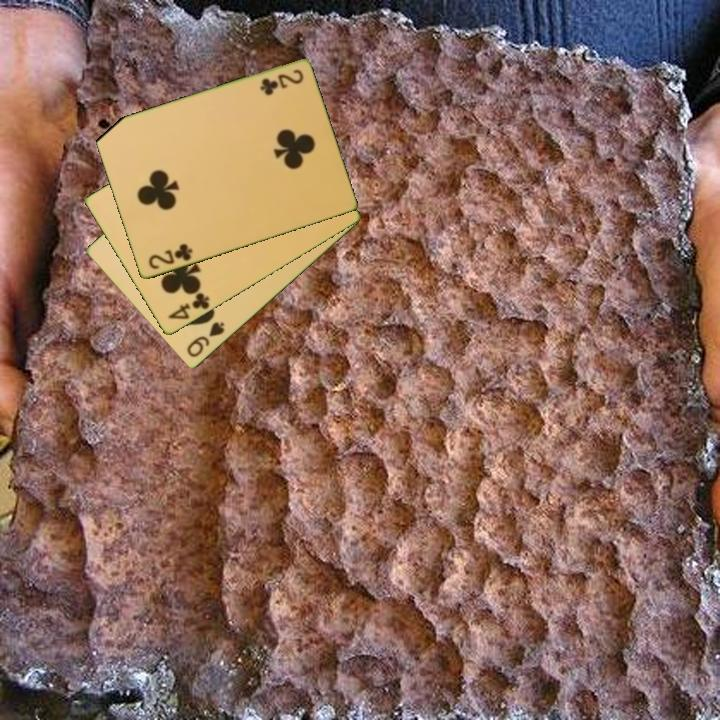2c: (145, 240, 195, 273), (256, 66, 306, 97)
4c: (164, 289, 212, 323)
9s: (183, 318, 227, 361)
